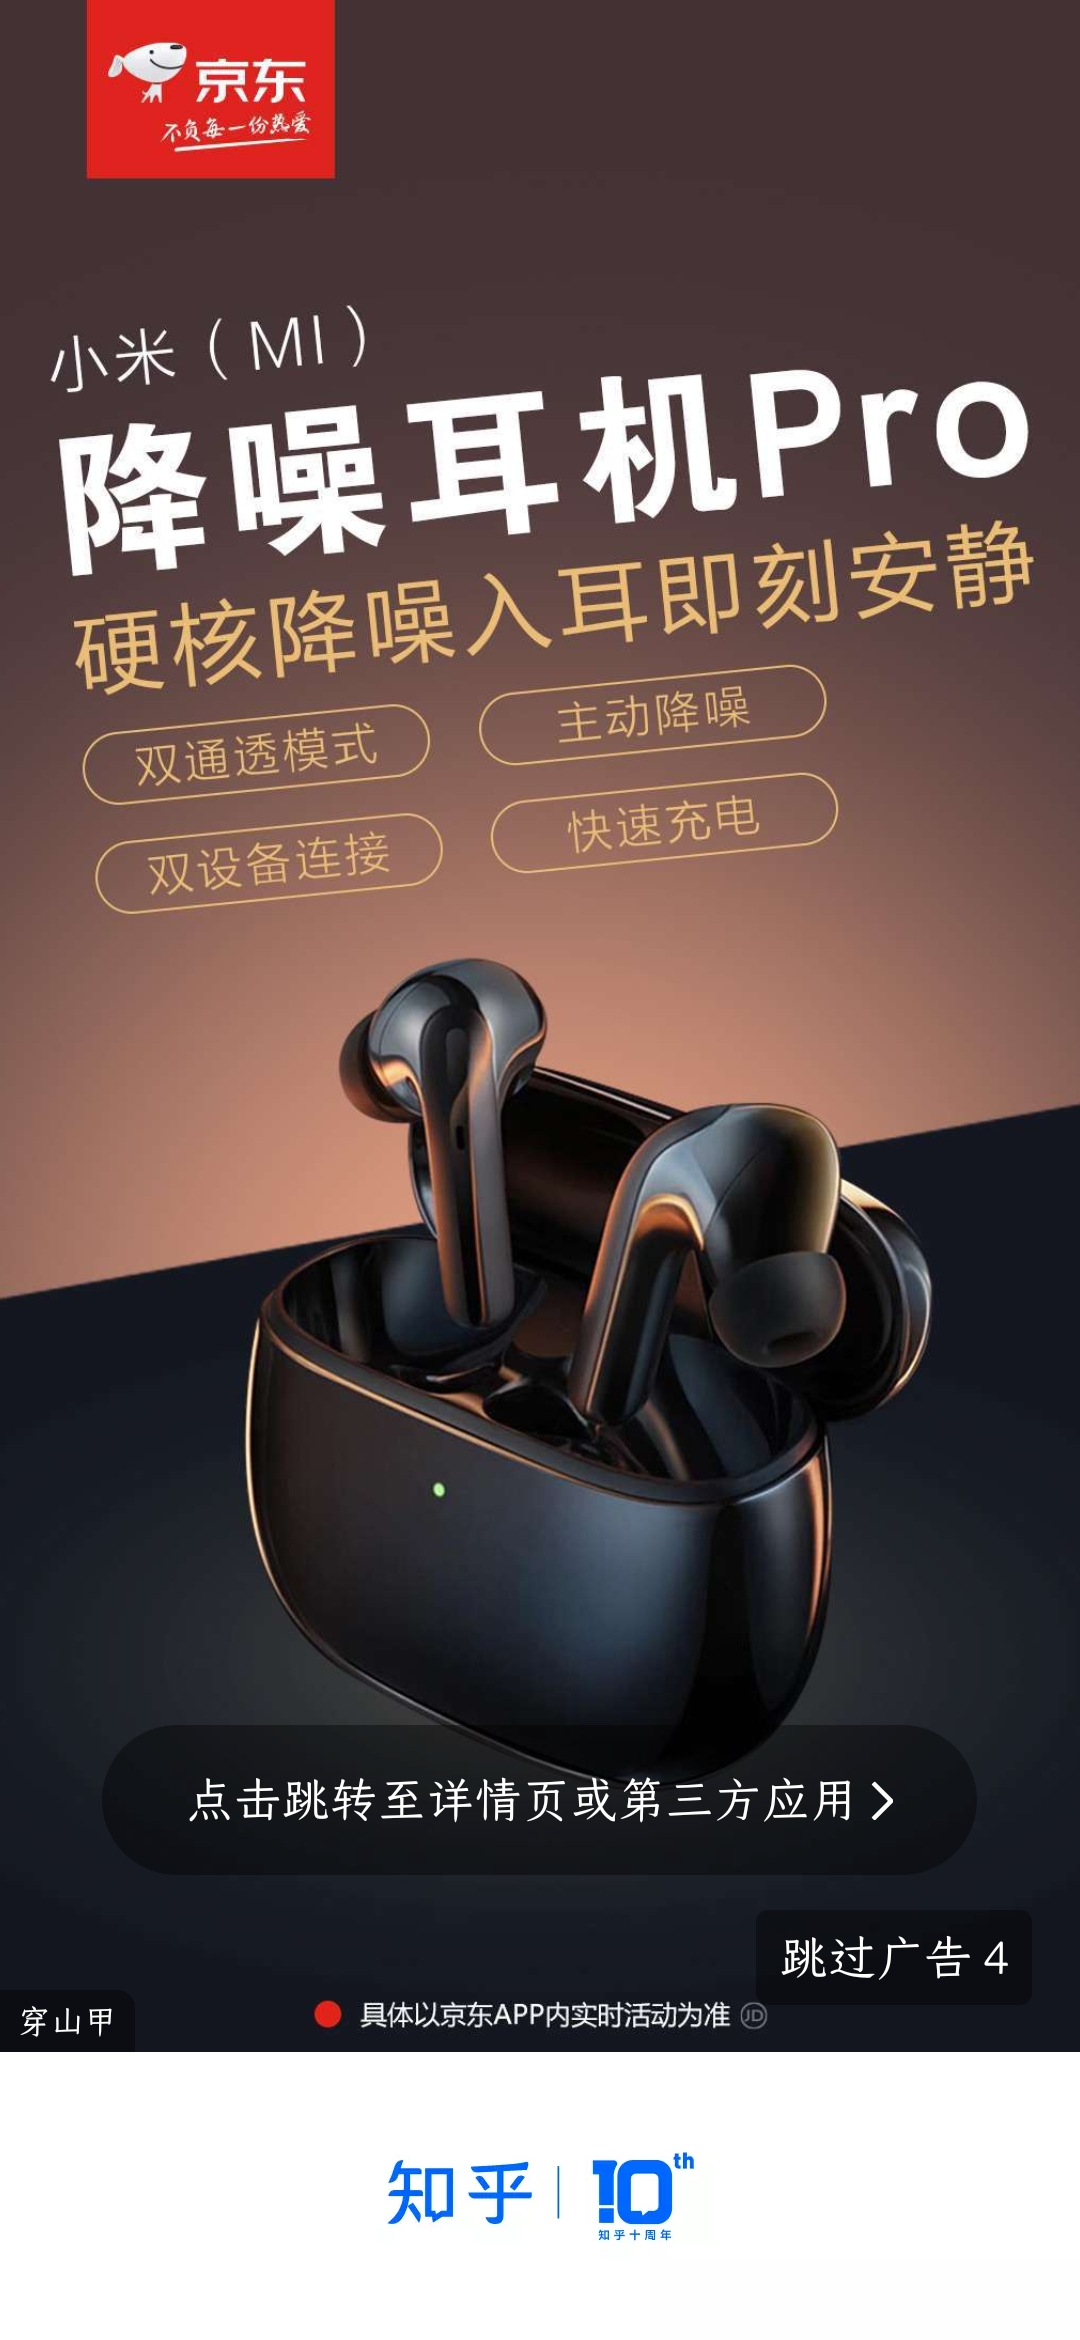skip: (767, 1915, 1023, 2009)
